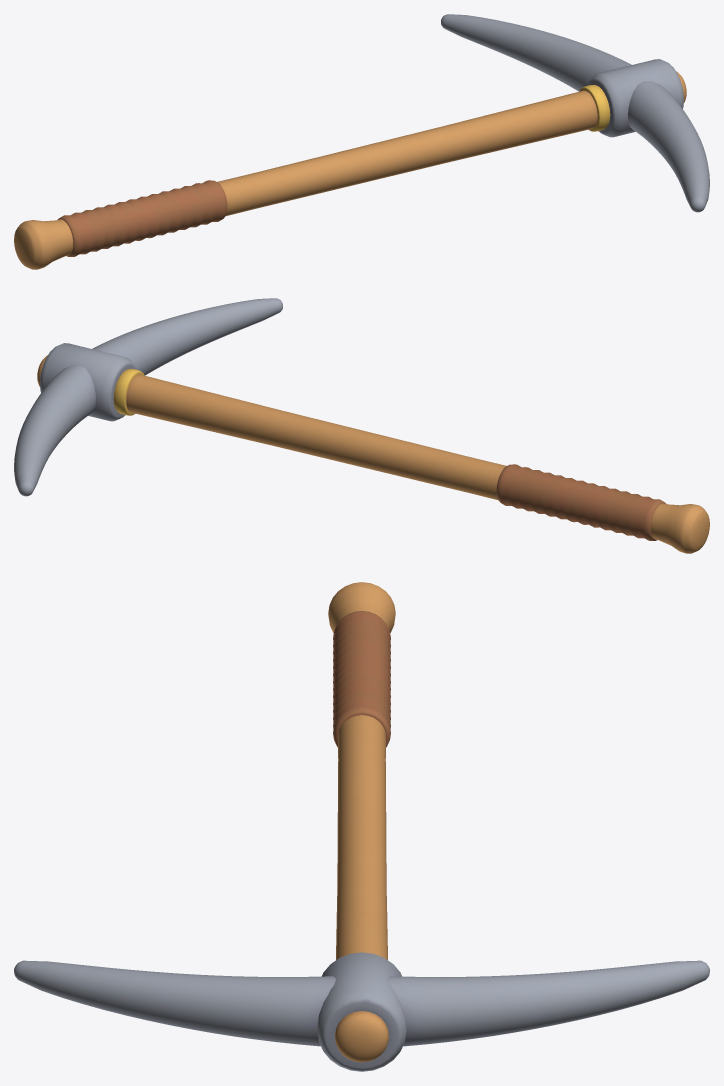
Rendered from pickaxe.glb.
3 renders of one model, top to bottom at view 1: azimuth 30°, elevation 25°; view 2: azimuth 150°, elevation 25°; view 3: azimuth 270°, elevation 25°, orthographic. The views are drawn at different scales.
Visible parts, largest first — view 1: pickaxe_body; view 2: pickaxe_body; view 3: pickaxe_body.
Part boxes in pixels (x1=…): pickaxe_body: x1=14, y1=14, x2=709, y2=269; pickaxe_body: x1=14, y1=298, x2=709, y2=553; pickaxe_body: x1=14, y1=582, x2=709, y2=1071.
Size of the model in its own units: 0.857 by 0.074 by 0.5779.
1 material, 1 textured.
